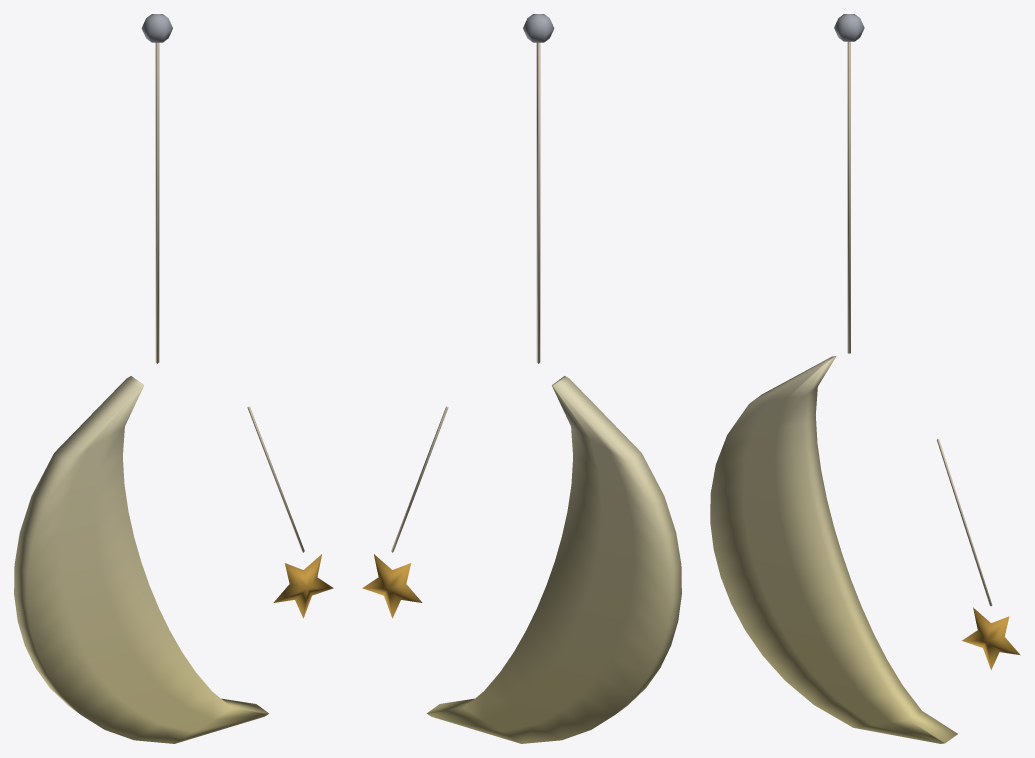
Rendered from paper_moon.glb.
3 views of the same model, side by side, from view 1: azimuth 30°, elevation 25°; view 2: azimuth 150°, elevation 25°; view 3: azimuth 330°, elevation 25° (orthographic). The views are drawn at different scales.
Parts seen in each view (by area): view 1: moon, paper_moon; view 2: moon, paper_moon; view 3: moon, paper_moon.
Part boxes in pixels (x1,y1,x2,y2): moon: (14, 42, 333, 743); paper_moon: (141, 14, 172, 42); moon: (362, 42, 681, 743); paper_moon: (523, 14, 554, 42); moon: (710, 41, 1020, 743); paper_moon: (834, 14, 864, 41).
Size of the model in its own units: 0.3429 by 0.7613 by 0.03.
